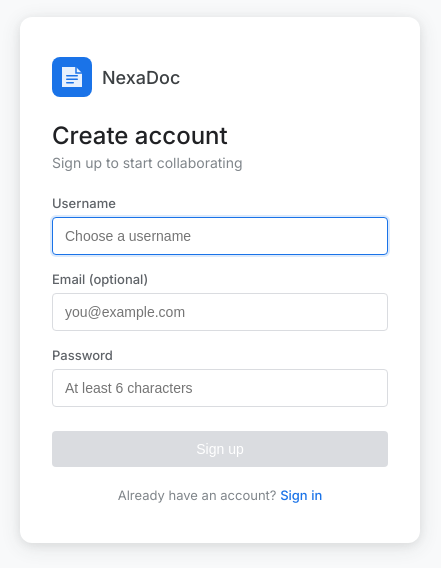
Test case: RegisterPage › shows loading text on submit
Type "newuser" into the field with placeholder "Choose a username" at [220, 236], box [52,217,388,255]
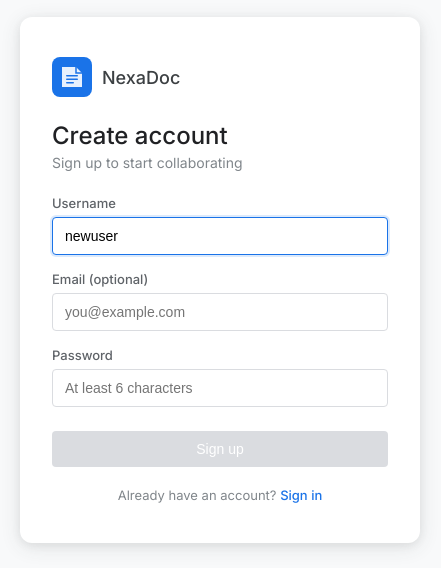
Type "pass123" into the password field with placeholder "At least 6 characters" at [220, 388], box [52,369,388,407]
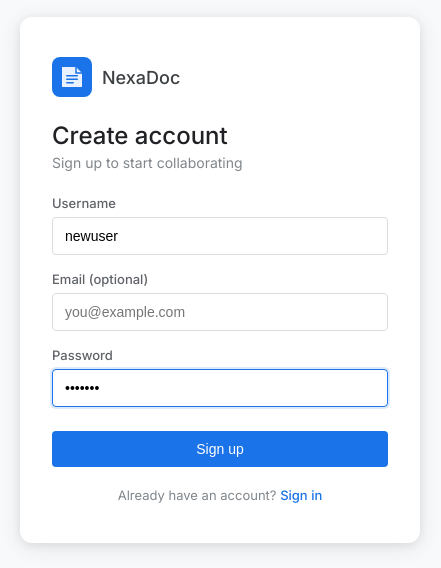
Click the button "Sign up" at [220, 449], box [52,431,388,467]
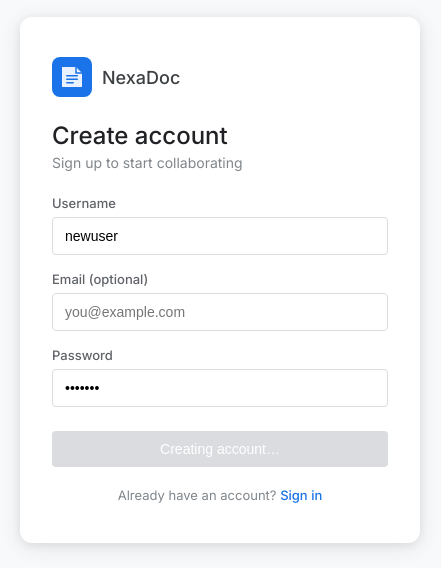
Expected: the button "Creating account…" is shown, [52,431,388,467]
